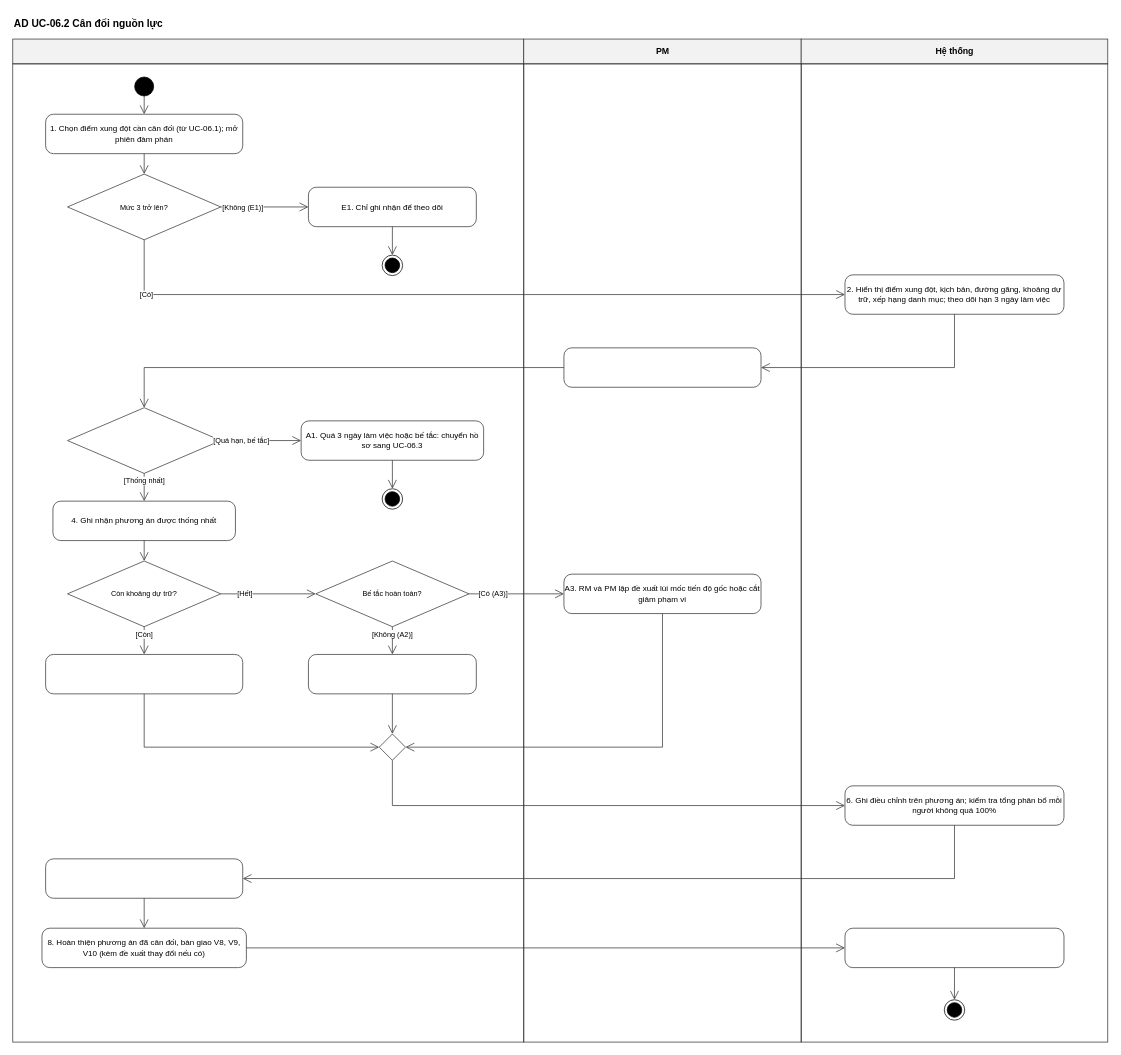
The diagram is 1121 pixels wide and 1055 high, and some of its shapes have lost their labels. Here are the shapes that lost their labels. From the top down, the centre of each, then its label:
At pixel 268 51: "RM".
At pixel 662 367: "3. Đàm phán chia sẻ, thay thế hoặc điều chỉnh nhu cầu nguồn lực".
At pixel 144 440: "Kết quả đàm phán?".
At pixel 144 674: "5. Làm mịn: điều chỉnh thời điểm trong khoảng dự trữ, không đổi ngày hoàn thành".
At pixel 392 674: "A2. San bằng nguồn lực trong hạn mức công suất".
At pixel 144 878: "7. Ghi nhật ký xử lý xung đột: điểm xung đột, đàm phán, điều chỉnh".
At pixel 954 947: "9. Lưu nhật ký (tối thiểu 3 năm); chuyển phương án sang V8, V9, V10".
